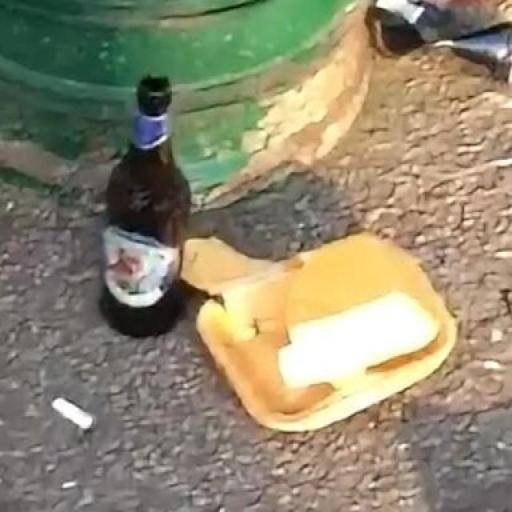glass: (89, 57, 207, 355)
